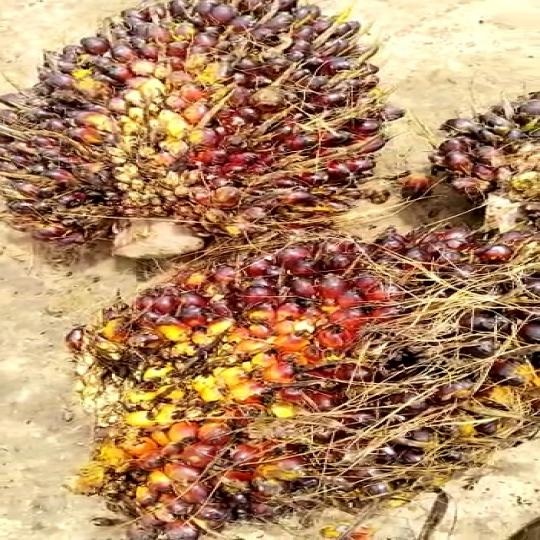kurang masak: (66, 229, 538, 539), (0, 0, 412, 258)
